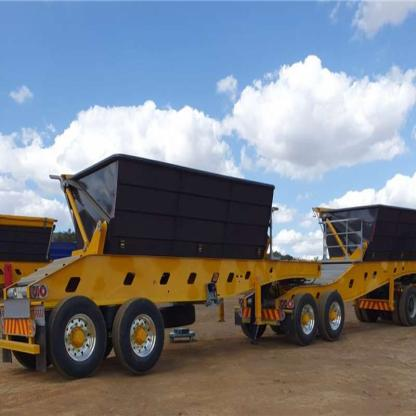dump_truck: (23, 106, 416, 398)
